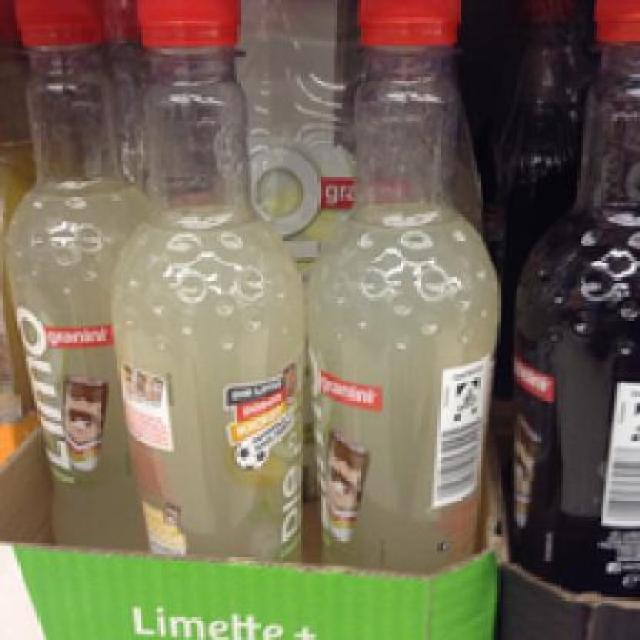Soda: (103, 0, 306, 560), (306, 0, 500, 566), (512, 3, 634, 600), (0, 0, 132, 546)
